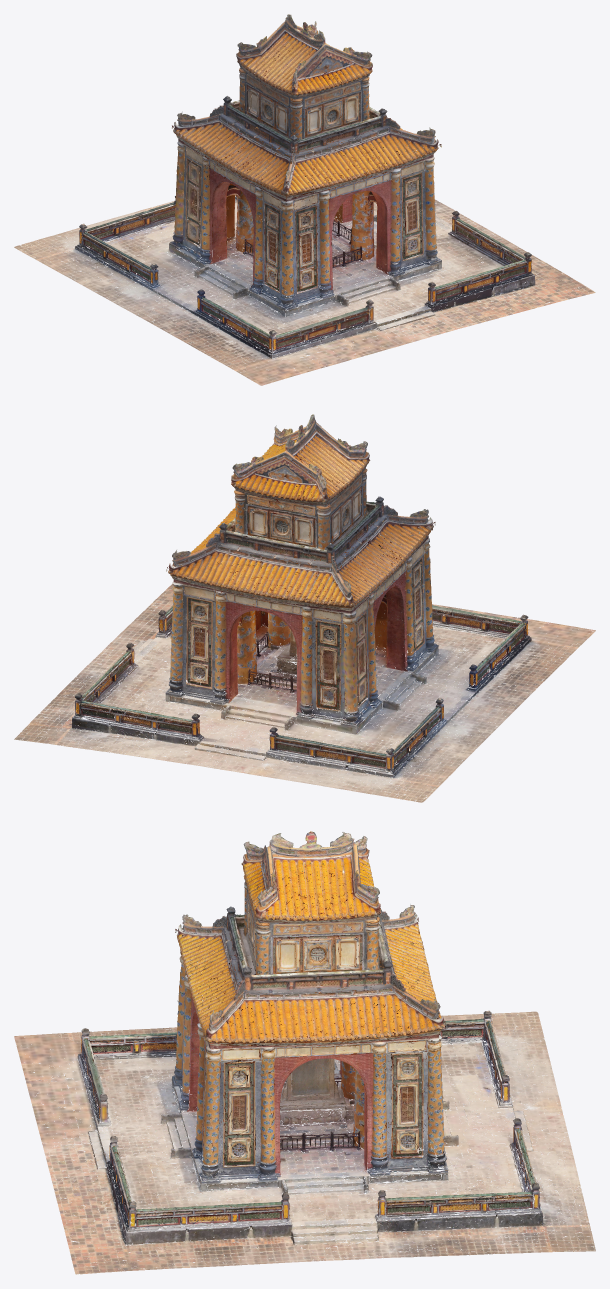
Rendered from tu-duc.glb.
The picture shows the model from 3 angles, top to bottom: view 1: azimuth 30°, elevation 25°; view 2: azimuth 150°, elevation 25°; view 3: azimuth 270°, elevation 25°; orthographic projection. The views are drawn at different scales.
Parts seen in each view (by area): view 1: Object_2; view 2: Object_2; view 3: Object_2.
Part boxes in pixels (x1=…): Object_2: x1=14, y1=14, x2=595, y2=385; Object_2: x1=14, y1=414, x2=595, y2=802; Object_2: x1=14, y1=831, x2=595, y2=1274.
Size of the model in its own units: 1.36 by 0.815 by 1.34.
4 materials, 4 textured.
